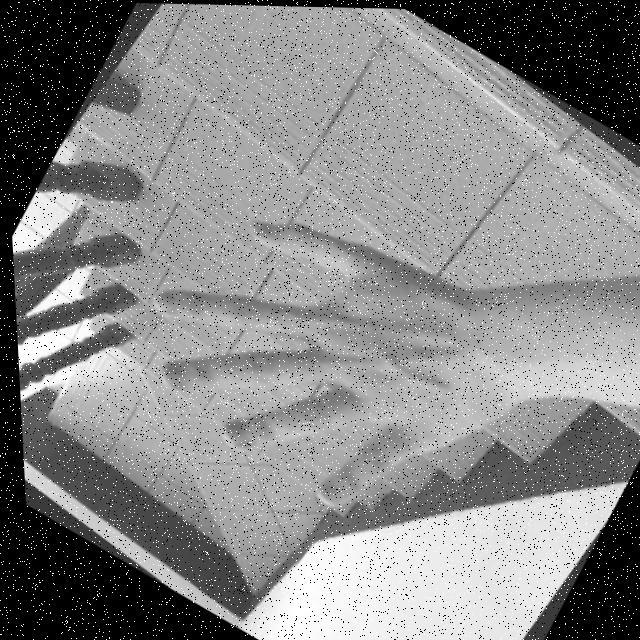no-gloves: (92, 116, 597, 580)
